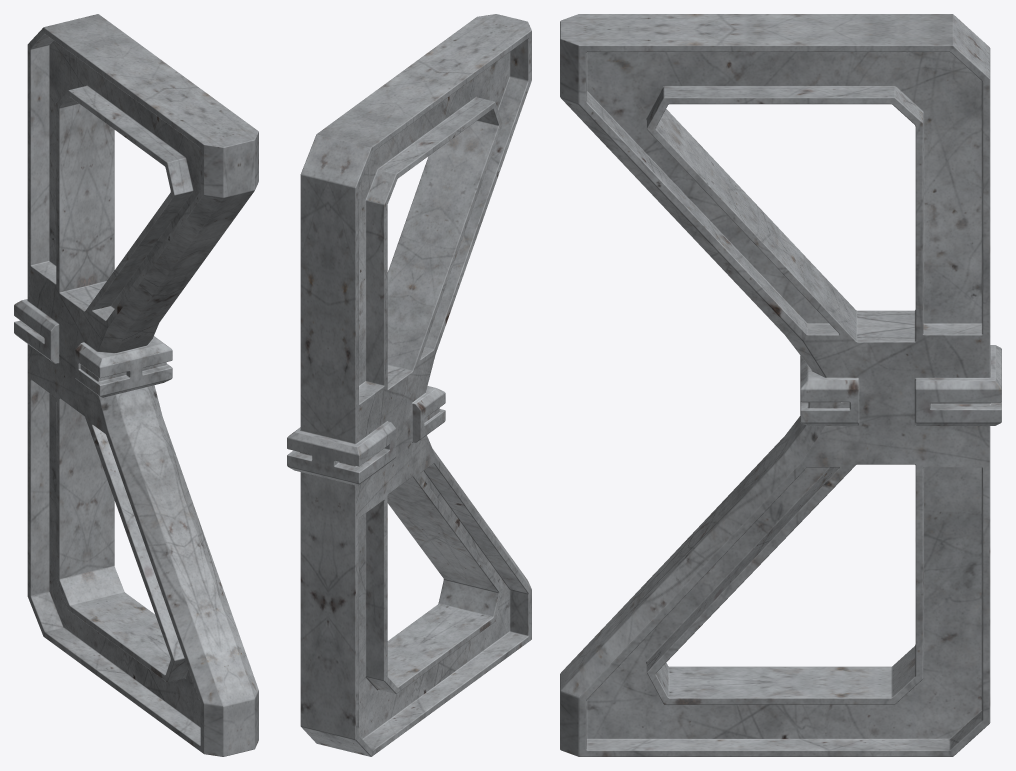
The model's file is SupportBeam.fbx.
3 views of the same model, side by side, from view 1: azimuth 30°, elevation 25°; view 2: azimuth 150°, elevation 25°; view 3: azimuth 270°, elevation 25° (orthographic). The views are drawn at different scales.
Visible parts, largest first — view 1: Cube; view 2: Cube; view 3: Cube.
Part boxes in pixels (x1,y1,x2,y2): Cube: (14, 14, 258, 756); Cube: (287, 14, 531, 756); Cube: (560, 14, 1001, 756).
Size of the model in its own units: 2.63 by 11.81 by 21.
